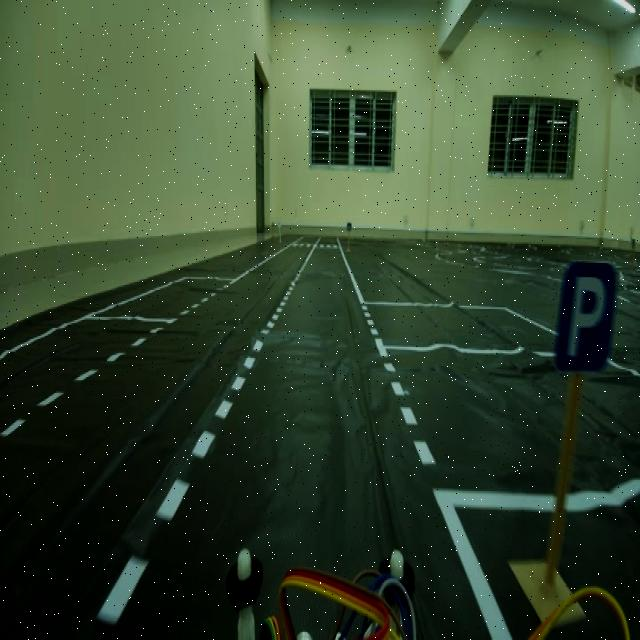parking: (555, 252, 616, 375)
